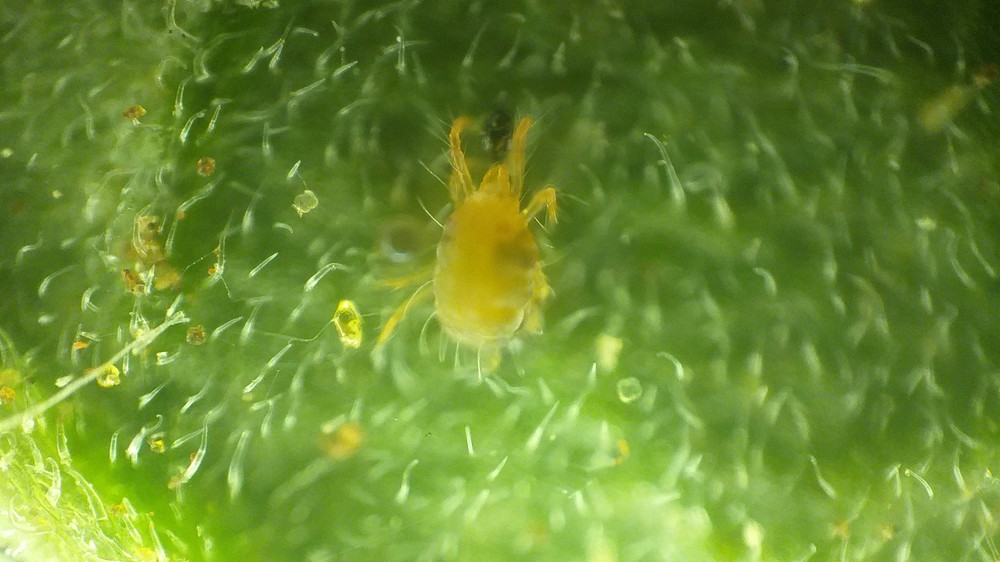Aracnido Rojo: (362, 107, 599, 377)
